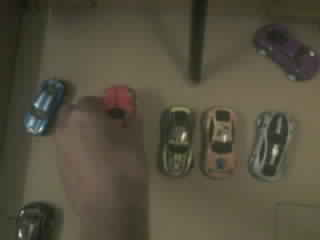Car: (256, 25, 319, 79), (249, 111, 294, 181), (201, 107, 236, 178), (160, 106, 192, 175), (25, 80, 63, 135), (17, 202, 53, 239), (103, 86, 134, 119)
